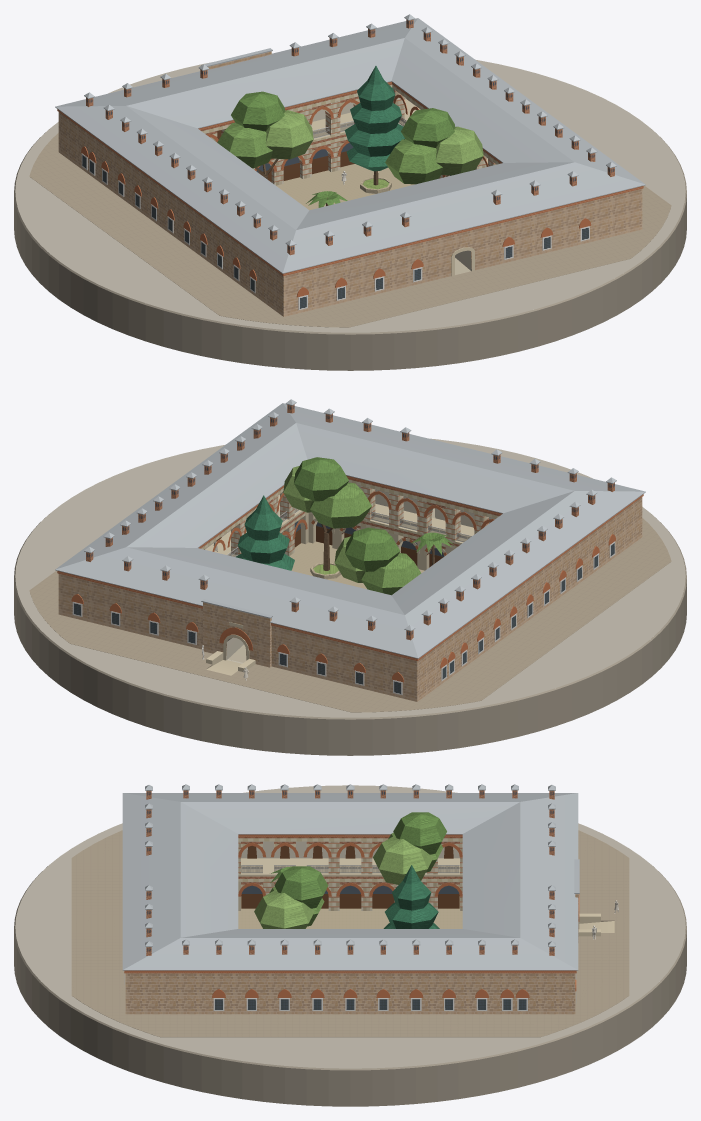
File: emir-hani_v04_sunum.glb
3 renders of one model, top to bottom at view 1: azimuth 30°, elevation 25°; view 2: azimuth 150°, elevation 25°; view 3: azimuth 270°, elevation 25°, orthographic.
Parts seen in each view (by area): view 1: Emir_Hani, Zemin_Kaide, Zemin_Sokak, Avlu_Revaklari, Cevre_Agac_02, Dis_Cephe, Cevre_Agac_01, Cevre_Agac_03, Bacalar, Han_Avlu, Girisler; view 2: Emir_Hani, Zemin_Kaide, Zemin_Sokak, Avlu_Revaklari, Dis_Cephe, Cevre_Agac_02, Bacalar, Girisler, Cevre_Agac_01, Cevre_Agac_03, Han_Avlu; view 3: Emir_Hani, Zemin_Kaide, Zemin_Sokak, Avlu_Revaklari, Dis_Cephe, Bacalar, Cevre_Agac_01, Cevre_Agac_02, Han_Avlu, Cevre_Agac_03, Girisler.
Part boxes in pixels (<box>): Emir_Hani: <box>55,18,645,316</box>; Zemin_Kaide: <box>14,59,686,370</box>; Zemin_Sokak: <box>29,133,671,327</box>; Avlu_Revaklari: <box>198,81,502,185</box>; Cevre_Agac_02: <box>385,108,483,184</box>; Dis_Cephe: <box>57,109,643,309</box>; Cevre_Agac_01: <box>217,91,313,179</box>; Cevre_Agac_03: <box>344,66,404,193</box>; Bacalar: <box>84,14,616,255</box>; Han_Avlu: <box>276,164,414,210</box>; Girisler: <box>201,48,474,276</box>; Emir_Hani: <box>55,403,645,701</box>; Zemin_Kaide: <box>14,438,686,755</box>; Zemin_Sokak: <box>29,518,671,712</box>; Avlu_Revaklari: <box>198,475,502,570</box>; Dis_Cephe: <box>57,494,643,694</box>; Cevre_Agac_02: <box>283,457,371,579</box>; Bacalar: <box>84,399,616,640</box>; Girisler: <box>201,599,272,675</box>; Cevre_Agac_01: <box>334,527,421,595</box>; Cevre_Agac_03: <box>236,495,294,570</box>; Han_Avlu: <box>289,541,424,589</box>; Emir_Hani: <box>122,793,578,1014</box>; Zemin_Kaide: <box>14,785,686,1106</box>; Zemin_Sokak: <box>71,830,629,1037</box>; Avlu_Revaklari: <box>238,834,462,910</box>; Dis_Cephe: <box>124,970,576,1010</box>; Bacalar: <box>145,784,555,955</box>; Cevre_Agac_01: <box>373,812,446,884</box>; Cevre_Agac_02: <box>254,866,328,928</box>; Han_Avlu: <box>238,896,462,928</box>; Cevre_Agac_03: <box>383,865,439,928</box>; Girisler: <box>574,859,614,942</box>.
Bounding box in the file's own units: 74.78 × 15.61 × 74.78.
Materials: 25 (10 with a texture image).
